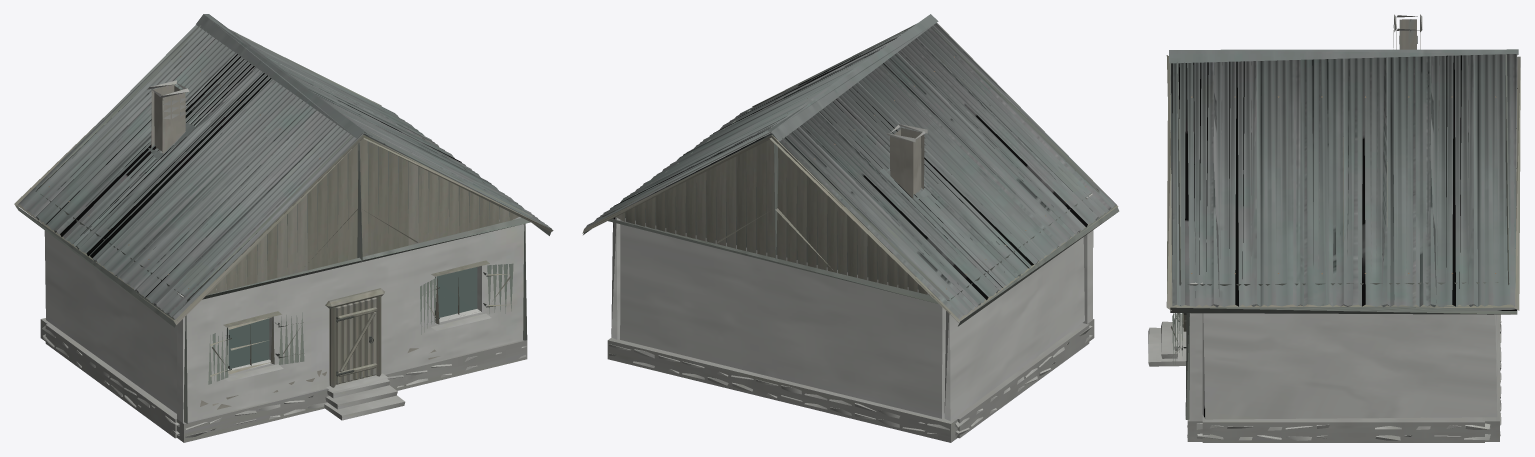
The model's file is house-CItIyFTi.glb.
3 views of the same model, side by side, from view 1: azimuth 30°, elevation 25°; view 2: azimuth 150°, elevation 25°; view 3: azimuth 270°, elevation 25° (orthographic). The views are drawn at different scales.
Visible parts, largest first — view 1: Body, Door; view 2: Body; view 3: Body.
Boxes of the visible parts, left/top/right/bottom form: Body: left=14, top=14, right=553, bottom=442; Door: left=325, top=288, right=384, bottom=387; Body: left=582, top=14, right=1119, bottom=442; Body: left=1148, top=14, right=1520, bottom=442.
Bounding box in the file's own units: 2 × 1.4 × 1.57.
343 materials, 340 textured.
